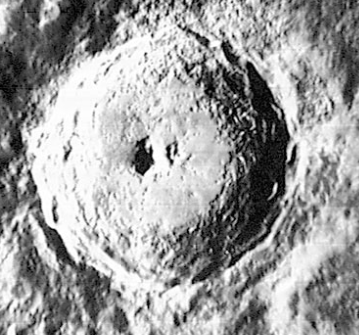crater: (1, 3, 331, 310)
